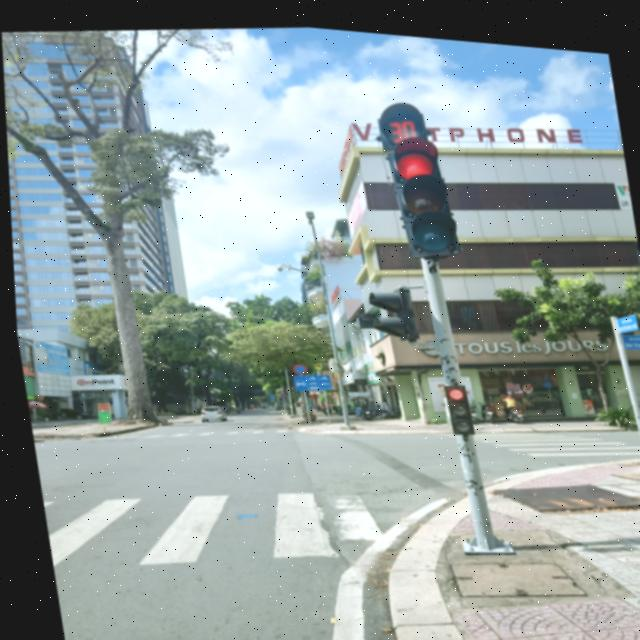Red: (377, 134, 463, 259), (438, 371, 475, 430)
